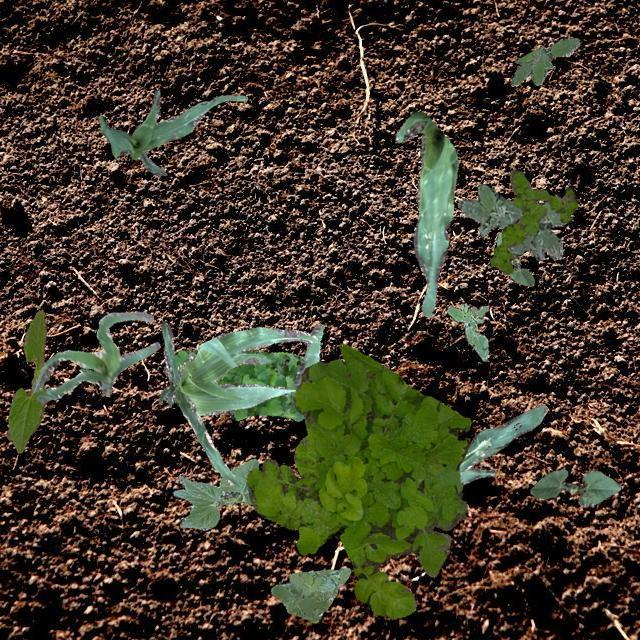crop: (292, 323, 490, 472), (159, 322, 317, 486), (394, 110, 458, 316), (98, 89, 246, 174), (30, 310, 160, 402), (458, 402, 546, 483), (172, 458, 258, 530), (5, 308, 46, 452), (530, 468, 620, 506), (496, 232, 534, 286)
weed: (246, 344, 470, 618), (162, 348, 304, 421), (488, 168, 576, 274), (456, 182, 564, 260), (270, 568, 350, 622), (509, 36, 578, 84), (447, 302, 488, 360)
